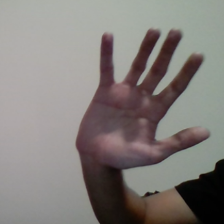left: (68, 17, 224, 172)
